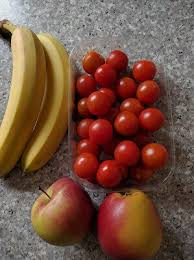banana: (1, 20, 46, 182)
tomato: (141, 143, 168, 169), (97, 160, 124, 186), (73, 152, 99, 179), (139, 107, 164, 133), (115, 111, 139, 137), (87, 91, 112, 115), (89, 119, 113, 144), (93, 64, 116, 87), (132, 62, 157, 82)
